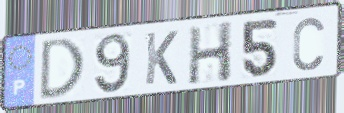5: (240, 18, 281, 79)
9: (92, 32, 134, 96)
C: (291, 15, 327, 73)
D: (37, 36, 87, 103)
H: (187, 19, 235, 87)
K: (143, 29, 180, 87)
